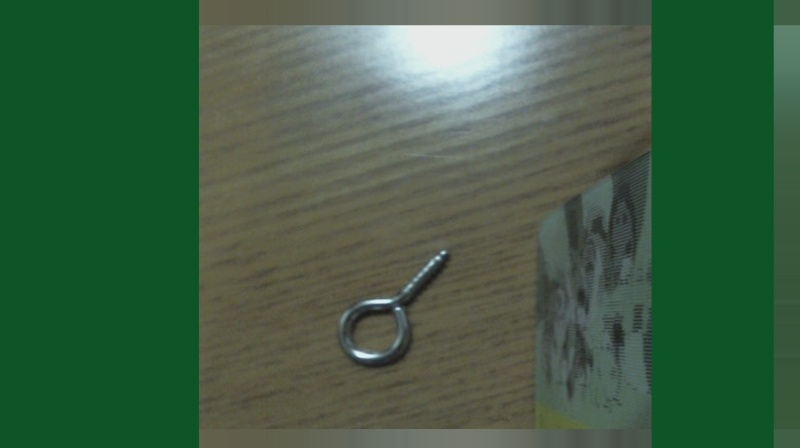O001: (334, 243, 455, 370)
